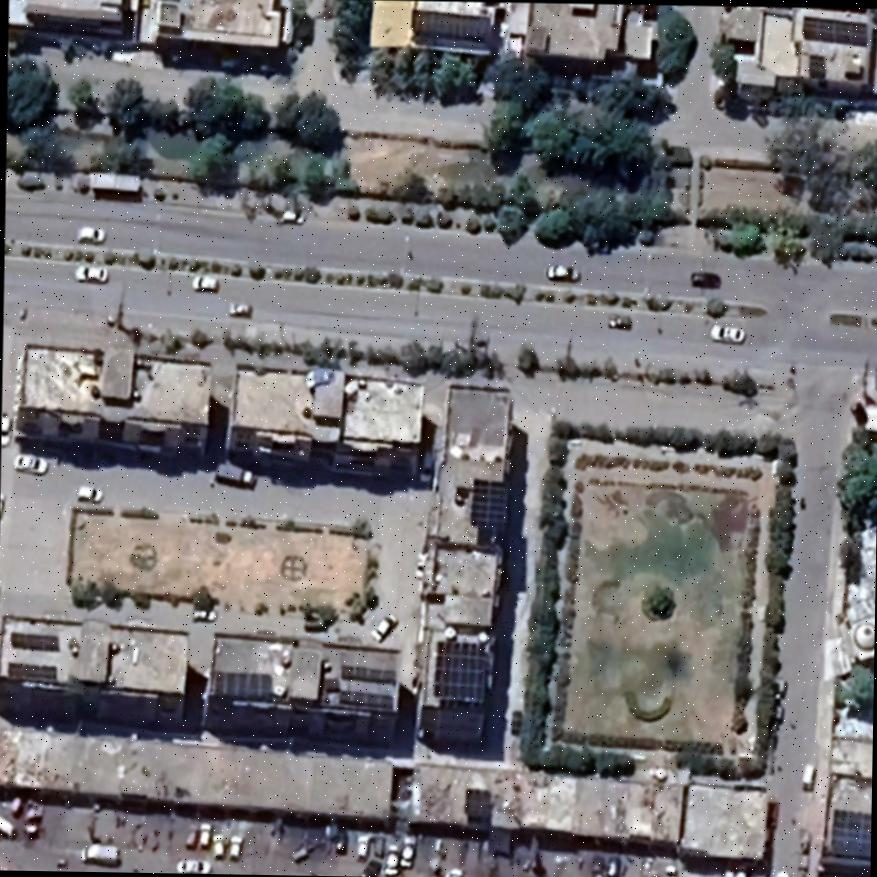Solarpanel: (427, 635, 489, 708), (404, 3, 496, 51), (321, 660, 405, 712), (207, 658, 282, 704), (794, 14, 875, 54), (461, 476, 513, 536), (823, 807, 870, 863), (1, 658, 61, 686), (457, 784, 495, 825), (4, 629, 60, 655)
